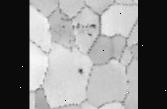good_void: (76, 67, 83, 74), (89, 23, 97, 29), (75, 23, 80, 29), (87, 33, 92, 36), (62, 24, 65, 27), (84, 25, 88, 27)
